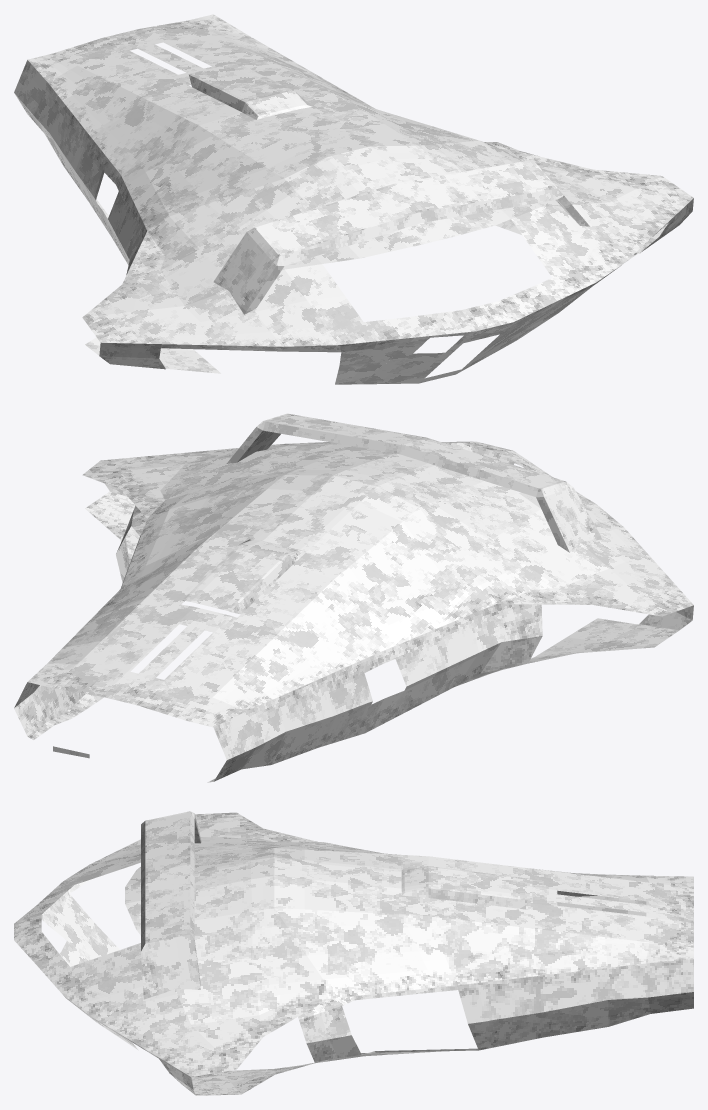
File: F7Blackpool_Paint.glb
3 views of the same model, one above another, from view 1: azimuth 30°, elevation 25°; view 2: azimuth 150°, elevation 25°; view 3: azimuth 270°, elevation 25° (orthographic). The views are drawn at different scales.
Parts seen in each view (by area): view 1: HullPaint, Spoiler, BalconyRearSection; view 2: HullPaint, Spoiler; view 3: HullPaint, Spoiler, BalconyRearSection.
Boxes of the visible parts, x1=… form: HullPaint: x1=14, y1=14, x2=693, y2=384; Spoiler: x1=213, y1=159, x2=589, y2=314; BalconyRearSection: x1=363, y1=331, x2=475, y2=384; HullPaint: x1=14, y1=441, x2=693, y2=782; Spoiler: x1=226, y1=413, x2=601, y2=552; HullPaint: x1=14, y1=812, x2=693, y2=1095; Spoiler: x1=141, y1=811, x2=201, y2=999; BalconyRearSection: x1=41, y1=912, x2=99, y2=966.
Bounding box in the file's own units: 47.87 × 12.9 × 52.34.
1 material, 1 textured.
